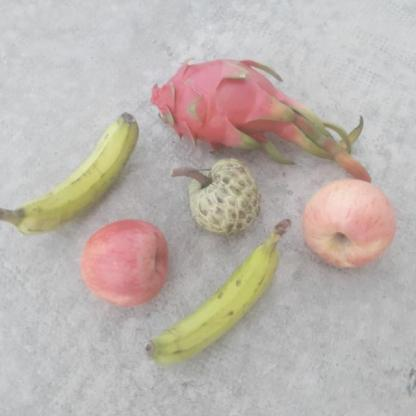annona: (171, 157, 263, 234)
apple: (71, 218, 169, 319), (300, 176, 396, 269)
banana: (144, 219, 293, 366), (0, 112, 142, 234), (149, 55, 288, 155)
